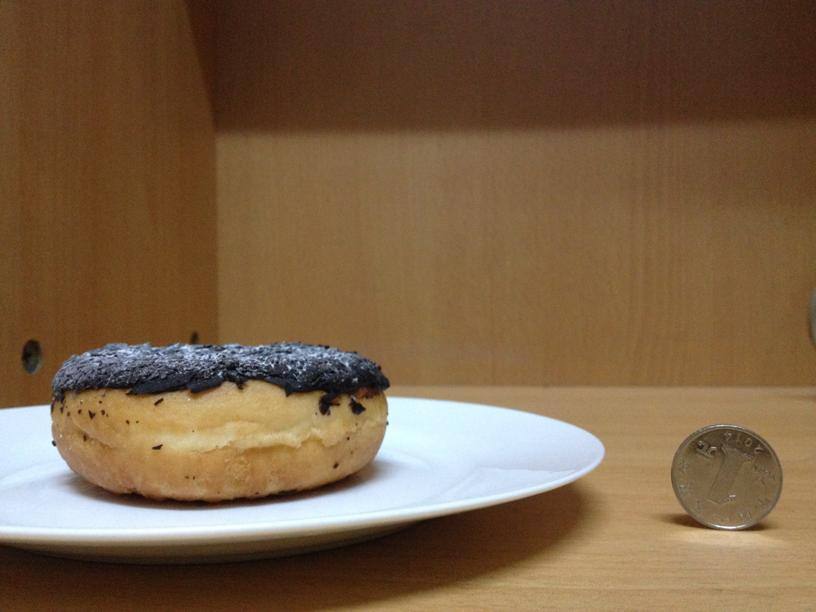coin: (670, 422, 784, 530)
doughnut: (50, 339, 390, 499)
